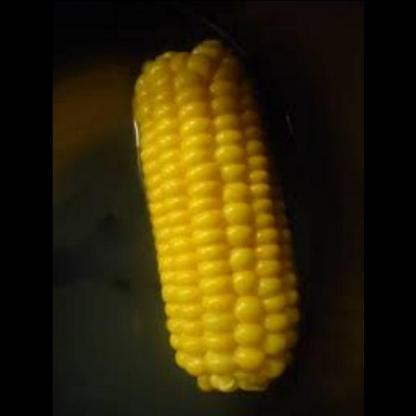corn: (129, 37, 313, 401)
